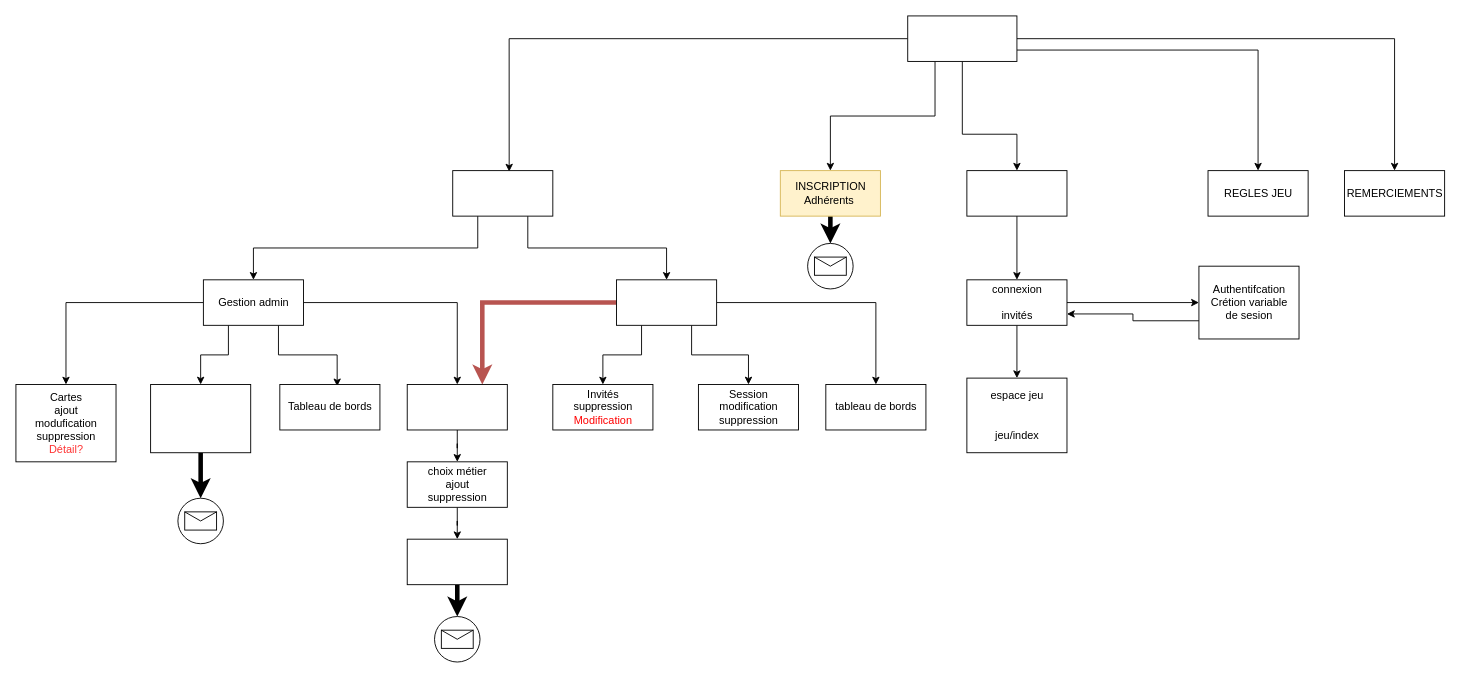
This 1461x678 diagram has some shape labels left out. The centre of each missing label's shape, as x and y in pixels:
ACCUEIL: (962,38)
Adhérent modification suppression VALIDATION: (200,418)
CONNEXION: (502,193)
ESPACE JEU: (1016,193)
GESTION adhérent: (666,302)
invités ajout suppression: (456,561)
Session de jeu création: (456,407)
